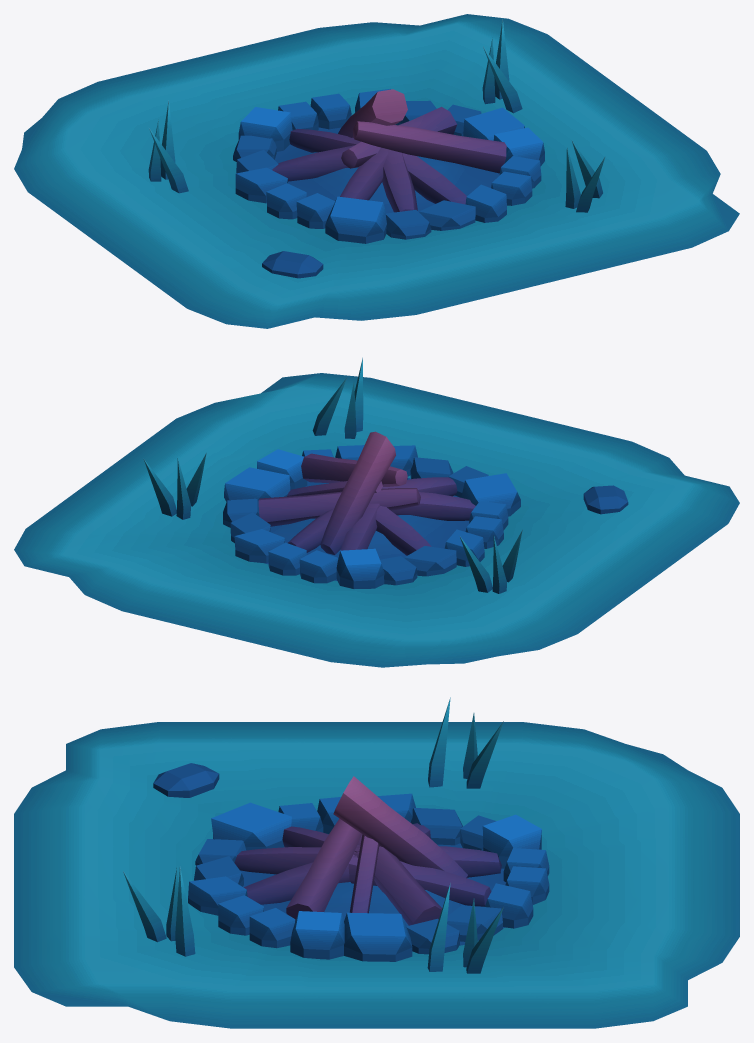
The model's file is CampFire.fbx.
3 views of the same model, one above another, from view 1: azimuth 30°, elevation 25°; view 2: azimuth 150°, elevation 25°; view 3: azimuth 270°, elevation 25° (orthographic). The views are drawn at different scales.
Visible parts, largest first — view 1: polySurface53; view 2: polySurface53; view 3: polySurface53.
Boxes of the visible parts, x1=… form: polySurface53: x1=14, y1=14, x2=739, y2=328; polySurface53: x1=14, y1=357, x2=739, y2=667; polySurface53: x1=14, y1=697, x2=739, y2=1028.
Bounding box in the file's own units: 6.93 × 1.48 × 6.93.
